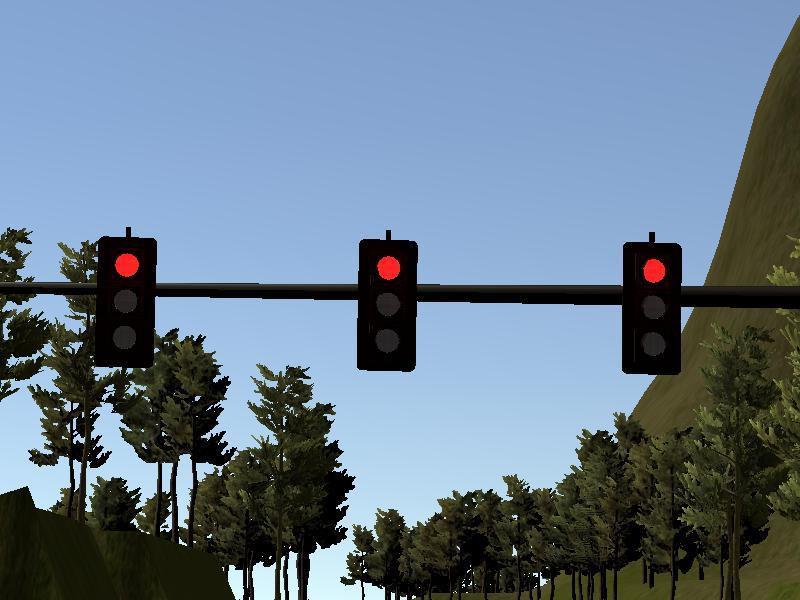Red: (97, 233, 155, 365), (359, 240, 417, 371), (624, 244, 681, 372)
